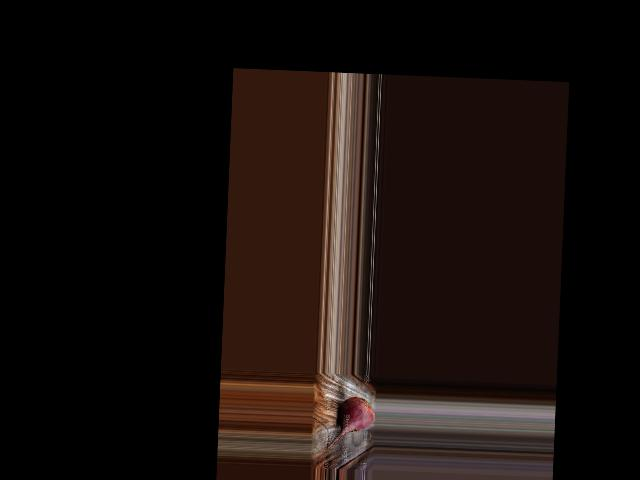beet: (327, 396, 374, 450)
